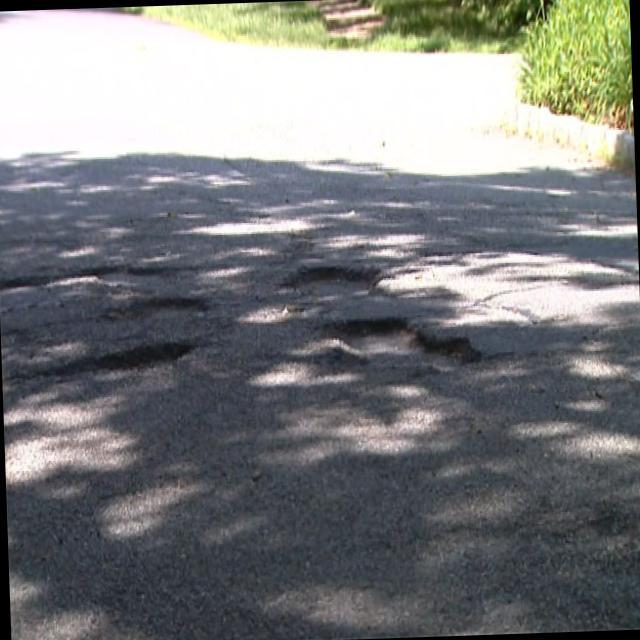Pothole: (48, 324, 186, 413), (320, 304, 454, 379), (0, 246, 155, 302), (282, 250, 381, 310), (131, 282, 205, 328)
